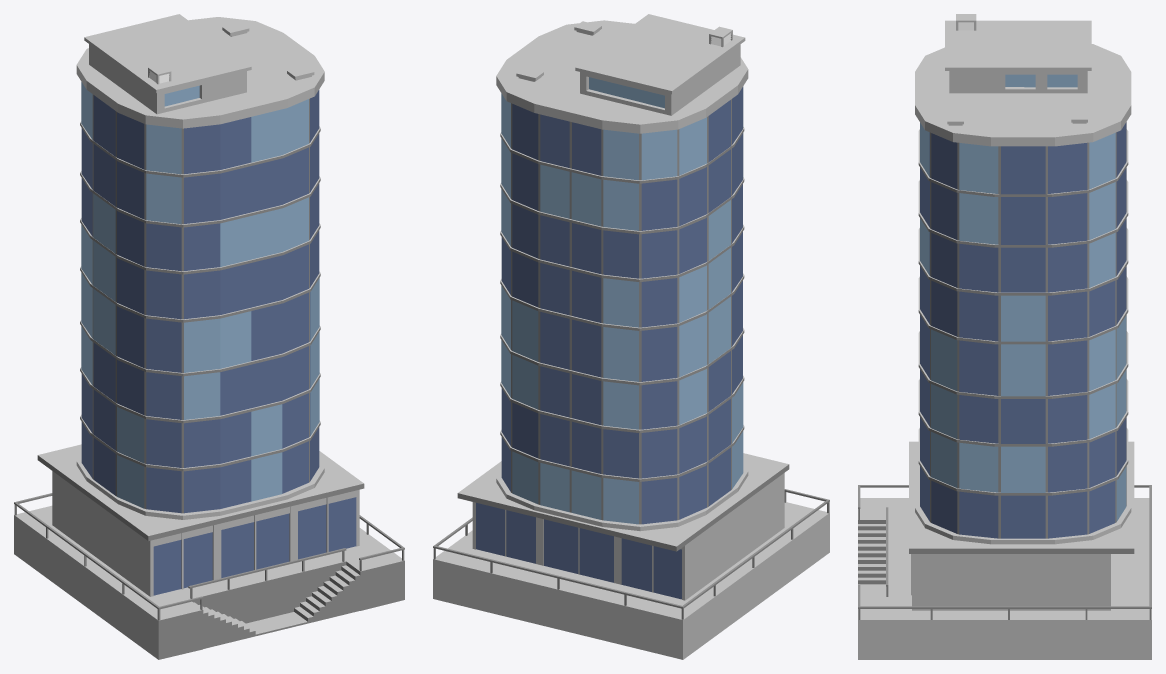
The model's file is business_center_005.fbx.
The picture shows the model from 3 angles, left to right: view 1: azimuth 30°, elevation 25°; view 2: azimuth 150°, elevation 25°; view 3: azimuth 270°, elevation 25°; orthographic projection.
Parts seen in each view (by area): view 1: business_center_005; view 2: business_center_005; view 3: business_center_005.
Part boxes in pixels (x1,y1,x2,y2): business_center_005: (14, 14, 404, 659); business_center_005: (433, 14, 829, 659); business_center_005: (858, 14, 1151, 659).
Bounding box in the file's own units: 1477 × 3087 × 1501.
